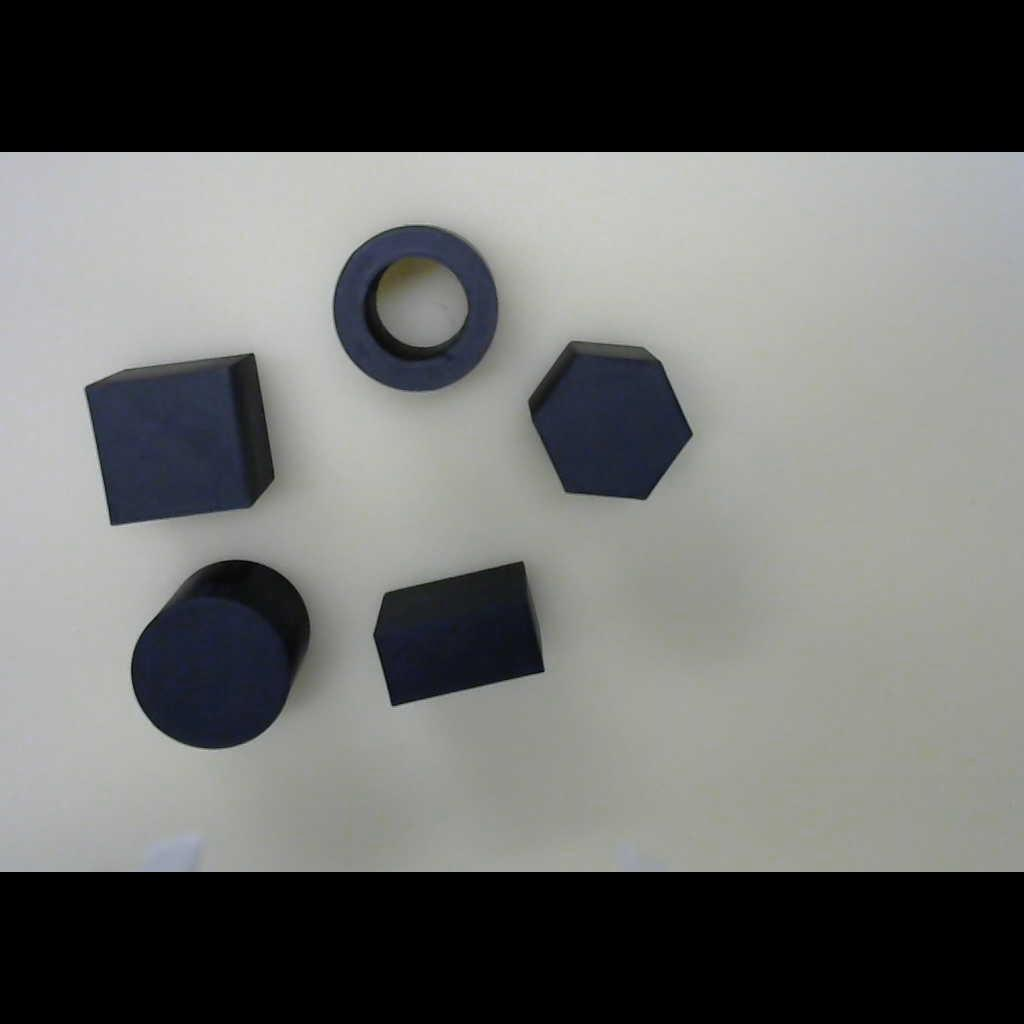circle: (131, 554, 318, 750)
hexagon: (514, 328, 703, 507)
rectangle: (350, 548, 561, 719)
ring: (332, 224, 502, 396)
square: (58, 335, 299, 545)
